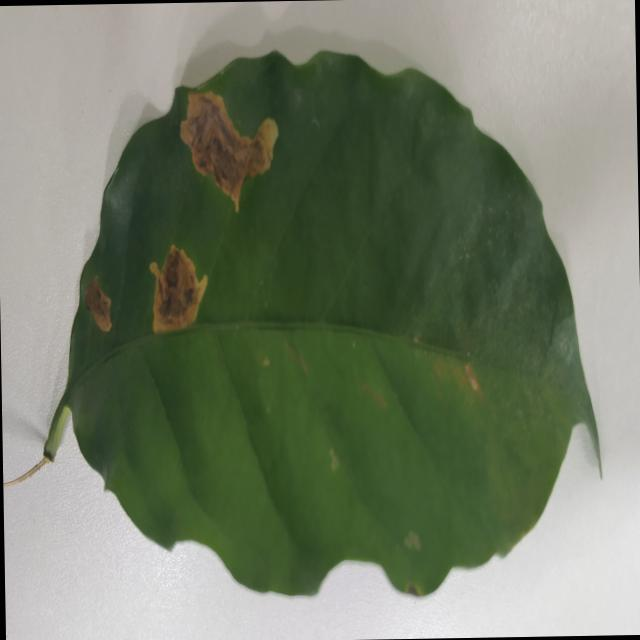KaratDaunKopi: (180, 91, 278, 212), (149, 245, 207, 333), (85, 279, 111, 332), (464, 363, 481, 396), (404, 531, 420, 550), (329, 448, 339, 471)
